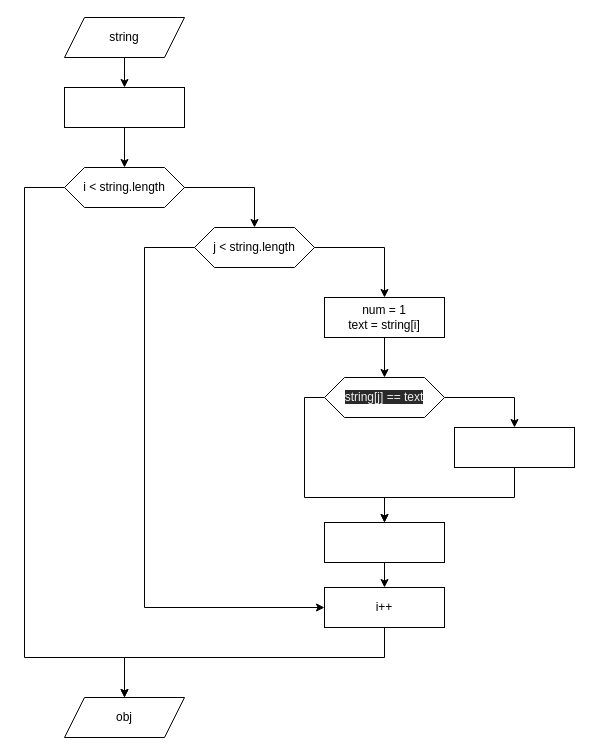
The diagram is 592 pixels wide and 755 high, and some of its shapes have lost their labels. The shapes that lost their labels are listed below. From the top down, each one's centre as x and y in pixels, then its label:
At pixel 124 107: "obj = {}".
At pixel 514 447: "num = 2 j++".
At pixel 384 542: "obj.string[i] = num;".
